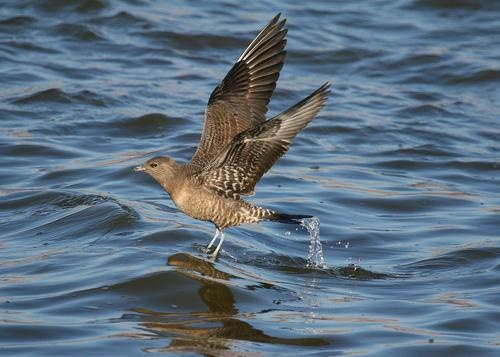bird: (133, 14, 335, 259)
